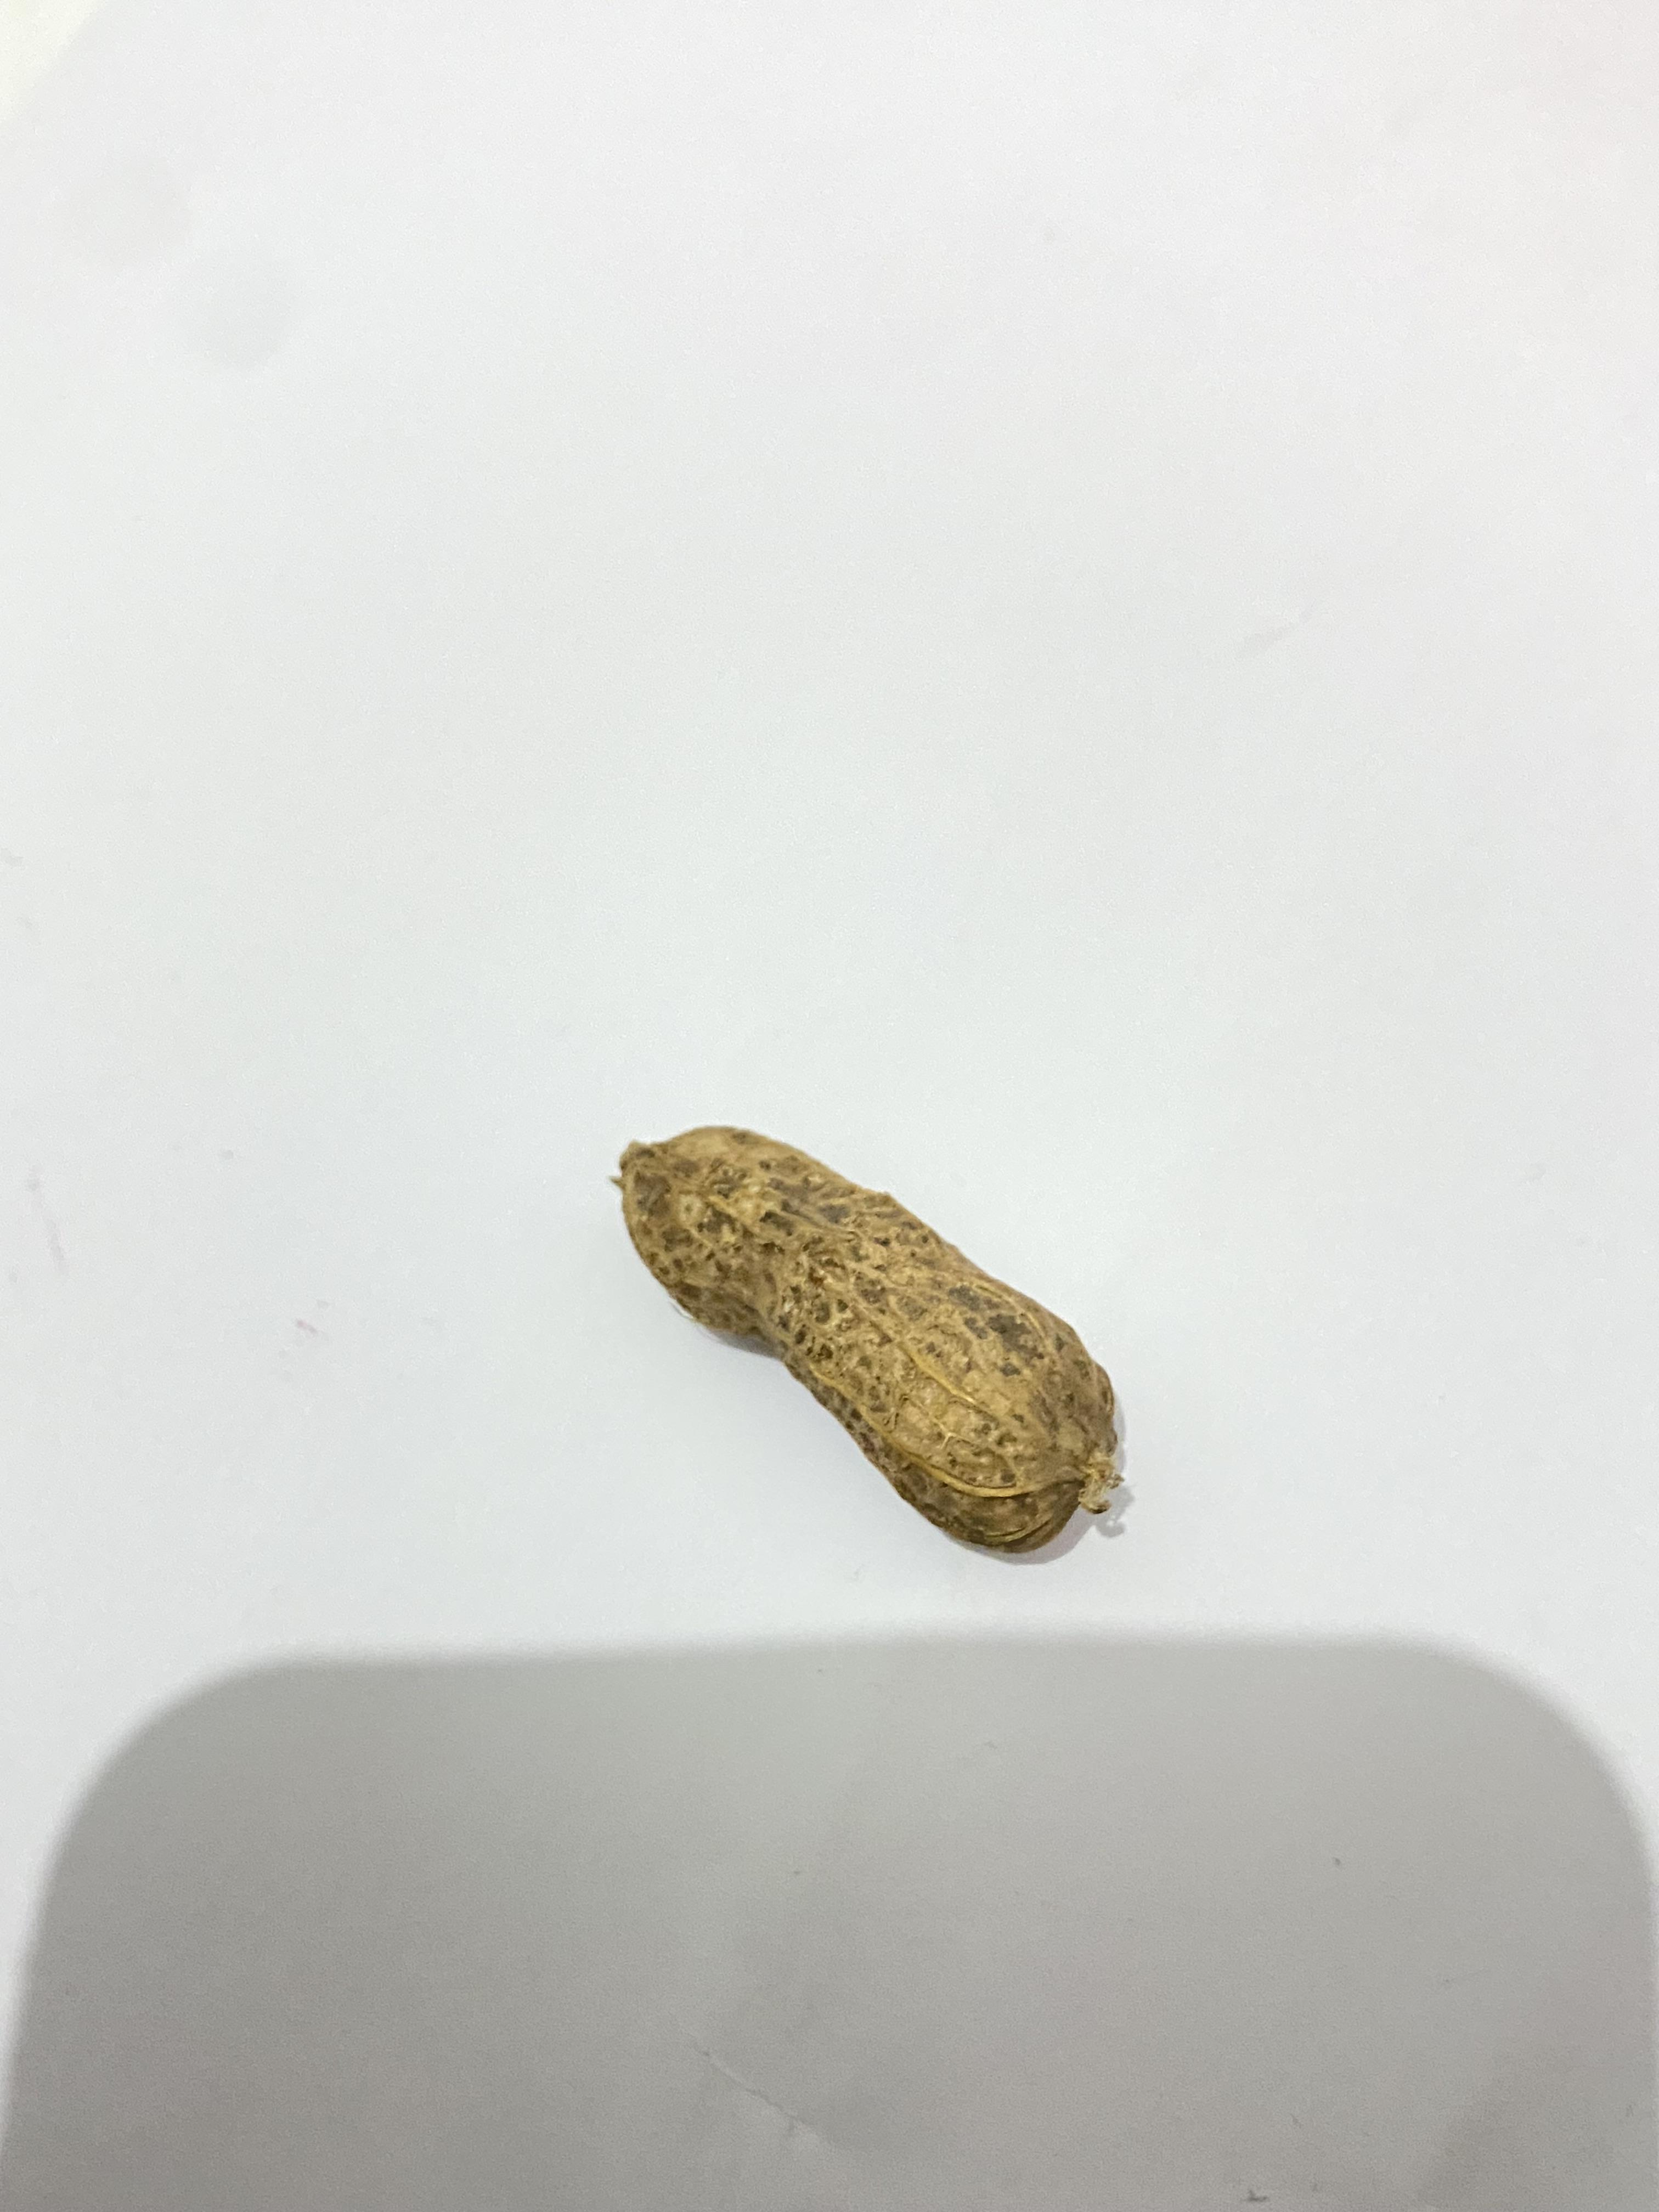kacang3: (577, 1092, 1129, 1587)
